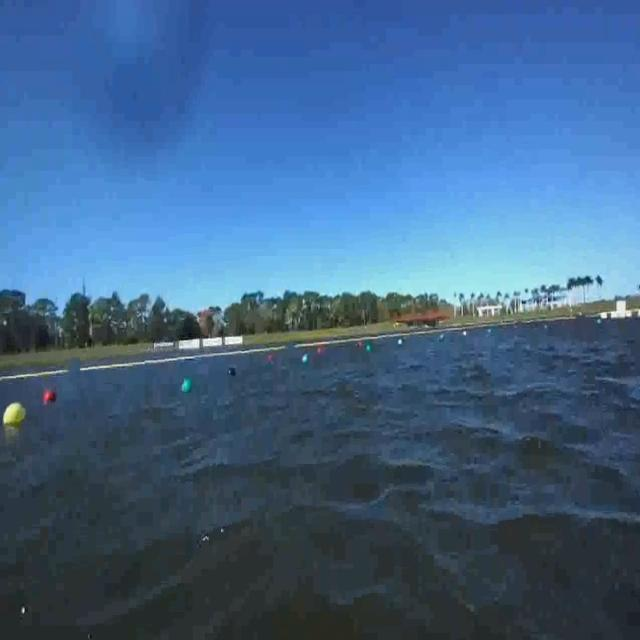green-buoy: (182, 378, 192, 394)
red-buoy: (44, 390, 54, 403)
yellow-buoy: (3, 404, 26, 428)
